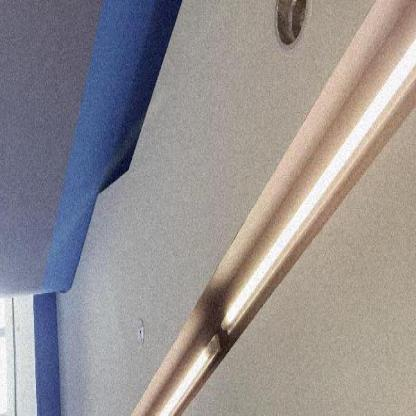light_on: (216, 34, 416, 350), (148, 337, 217, 415)
